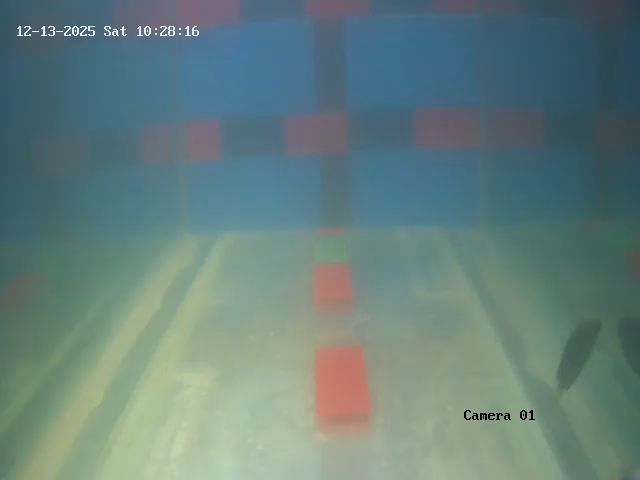fish: (546, 313, 607, 391)
